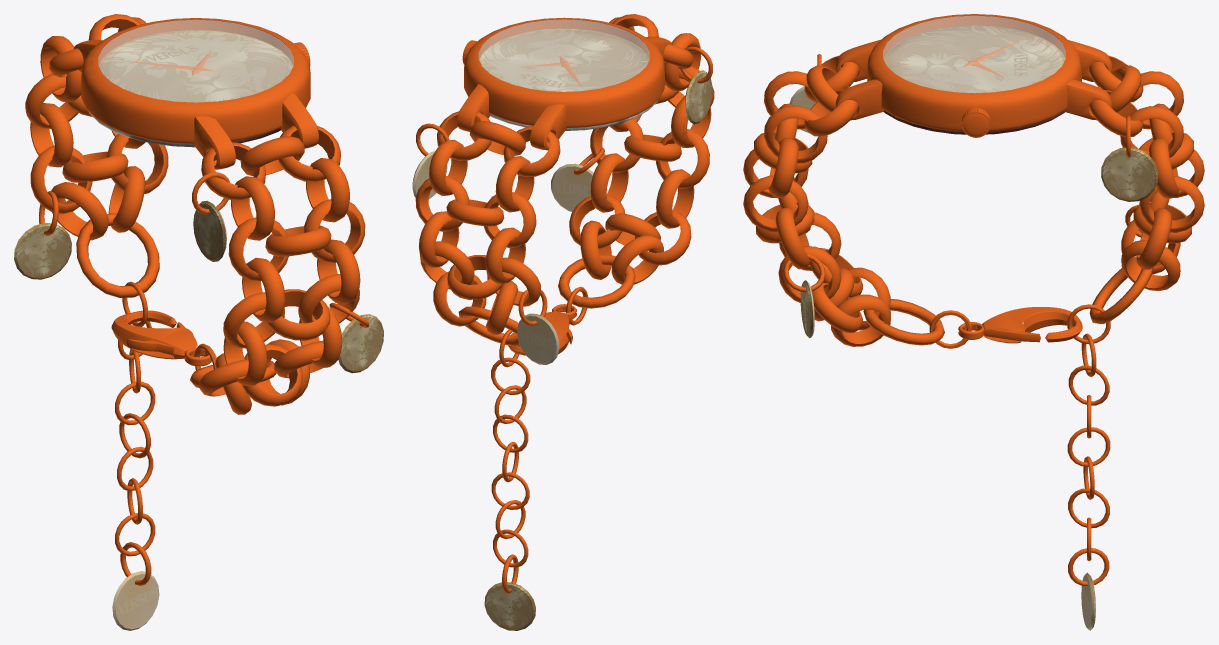
The model's file is watch08a.FBX.
3 renders of one model, left to right at view 1: azimuth 30°, elevation 25°; view 2: azimuth 150°, elevation 25°; view 3: azimuth 270°, elevation 25°, orthographic. The views are drawn at different scales.
Parts seen in each view (by area): view 1: glass face, watch_outer_edge, watch_face, coin02, hook01, Torus016, coin05, coin04, ring040, ring002, ring044, ring050 (+35 smaller); view 2: glass face, watch_outer_edge, watch_face, coin05, coin02, Torus020, ring005, ring054, coin04, ring007, ring058, ring042 (+36 smaller); view 3: glass face, watch_outer_edge, watch_face, coin03, hook01, Torus020, ring056, Torus016, ring061, ring050, ring052, ring053 (+27 smaller).
Boxes of the visible parts, <box> form: glass face: <box>98,19,293,102</box>; watch_outer_edge: <box>81,18,310,143</box>; watch_face: <box>88,30,293,147</box>; coin02: <box>14,223,71,279</box>; hook01: <box>111,310,197,359</box>; Torus016: <box>76,213,159,297</box>; coin05: <box>112,571,159,630</box>; coin04: <box>338,314,383,373</box>; ring040: <box>51,182,108,240</box>; ring002: <box>231,176,274,240</box>; ring044: <box>30,103,73,167</box>; ring050: <box>306,158,349,222</box>; glass face: <box>478,19,649,91</box>; watch_outer_edge: <box>464,17,664,127</box>; watch_face: <box>479,28,658,130</box>; coin05: <box>484,582,535,630</box>; coin02: <box>517,313,559,364</box>; Torus020: <box>558,254,635,308</box>; ring005: <box>656,169,694,228</box>; ring054: <box>590,153,628,212</box>; coin04: <box>551,163,593,211</box>; ring007: <box>611,235,663,284</box>; ring058: <box>429,139,467,195</box>; ring042: <box>495,156,534,212</box>; glass face: <box>883,15,1065,93</box>; watch_outer_edge: <box>867,14,1081,131</box>; watch_face: <box>883,25,1065,134</box>; coin03: <box>1101,147,1158,201</box>; hook01: <box>982,307,1082,343</box>; Torus020: <box>863,299,944,345</box>; ring056: <box>831,294,890,346</box>; Torus016: <box>1089,267,1153,323</box>; ring061: <box>1121,240,1180,290</box>; ring050: <box>764,105,827,163</box>; ring052: <box>743,175,808,232</box>; ring053: <box>775,208,810,269</box>.
Bounding box in the file's own units: 33.19 × 92.93 × 67.78.
Materials: 3 (1 with a texture image).
